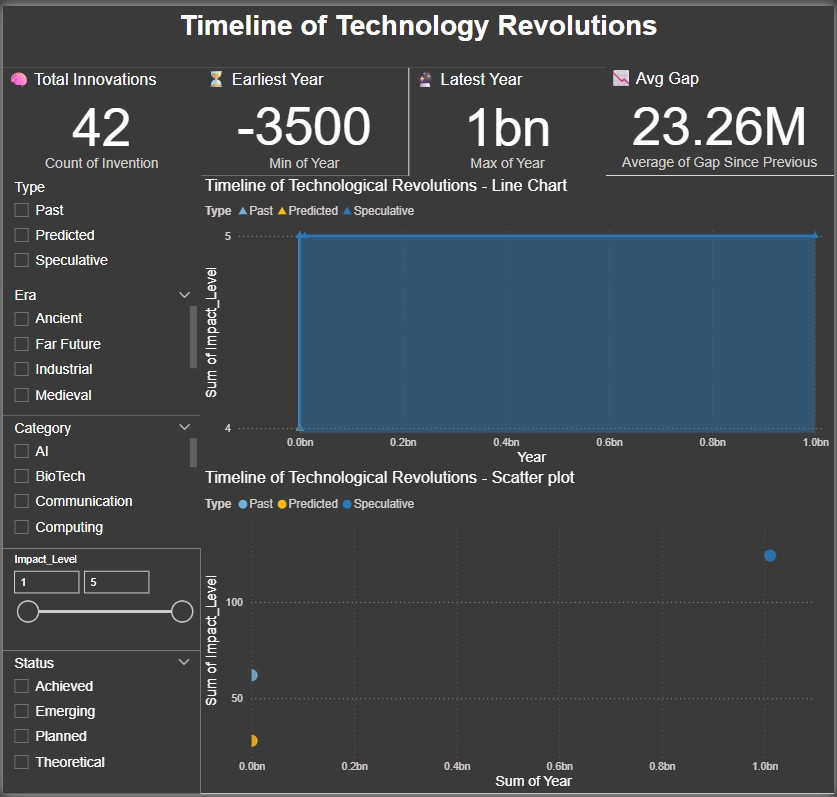

The page's visual inventory and layout, read from the dashboard file:
{"tool":"powerbi","page":{"name":"Dashboard","canvas":[950,900],"ordinal":0},"visuals":[{"type":"card","title":"🧠 Total Innovations","fields":{"Values":["Count(Technological_Revolutions_Final.Invention)"]},"box":[0,70,226.2,125],"z":0},{"type":"card","title":"⏳ Earliest Year","fields":{"Values":["Min(Technological_Revolutions_Final.Year)"]},"box":[226.2,70,237.5,123.8],"z":1000},{"type":"card","title":"🔮 Latest Year","fields":{"Values":["Max(Technological_Revolutions_Final.Year)"]},"box":[463.8,70,225,125],"z":2000},{"type":"card","title":"📉 Avg Gap","fields":{"Values":["Avg(Technological_Revolutions_Final.Gap_Since_Previous)"]},"box":[688.8,68.8,261.2,125],"z":3000},{"type":"slicer","fields":{"Values":["Technological_Revolutions_Final.Type"]},"box":[0,192.5,226.2,125],"z":4000},{"type":"slicer","fields":{"Values":["Technological_Revolutions_Final.Era"]},"box":[0,317.5,226.2,151.2],"z":5000},{"type":"slicer","fields":{"Values":["Technological_Revolutions_Final.Category"]},"box":[0,468.8,226.2,151.2],"z":6000},{"type":"slicer","fields":{"Values":["Technological_Revolutions_Final.Impact_Level"]},"box":[0,620,225.7,117.1],"z":7000},{"type":"slicer","fields":{"Values":["Technological_Revolutions_Final.Status"]},"box":[0,737.1,225.7,162.9],"z":8000},{"type":"scatterChart","title":"Timeline of Technological Revolutions - Scatter plot","fields":{"X":["Sum(Technological_Revolutions_Final.Year)"],"Y":["Sum(Technological_Revolutions_Final.Impact_Level)"],"Series":["Technological_Revolutions_Final.Type"]},"box":[225.7,528.6,724.3,371.4],"z":9000},{"type":"lineChart","title":"Timeline of Technological Revolutions  - Line Chart","fields":{"Category":["Technological_Revolutions_Final.Year"],"Series":["Technological_Revolutions_Final.Type"],"Y":["Sum(Technological_Revolutions_Final.Impact_Level)"]},"box":[226.2,193.8,723.8,335],"z":10000},{"type":"textbox","box":[0,0,950,70],"z":11000}]}

Visuals, with their boxes in screenshot pixels (x1, y1, x2, y2), scaled from the page's 950x900 canvas onto the 837x797 screenshot:
"🧠 Total Innovations" card: 0 62 199 173
"⏳ Earliest Year" card: 199 62 409 172
"🔮 Latest Year" card: 409 62 607 173
"📉 Avg Gap" card: 607 61 836 172
slicer - Technological_Revolutions_Final.Type: 0 170 199 281
slicer - Technological_Revolutions_Final.Era: 0 281 199 415
slicer - Technological_Revolutions_Final.Category: 0 415 199 549
slicer - Technological_Revolutions_Final.Impact_Level: 0 549 199 653
slicer - Technological_Revolutions_Final.Status: 0 653 199 796
"Timeline of Technological Revolutions - Scatter plot" scatterChart: 199 468 836 796
"Timeline of Technological Revolutions  - Line Chart" lineChart: 199 172 836 468
textbox: 0 0 836 62
